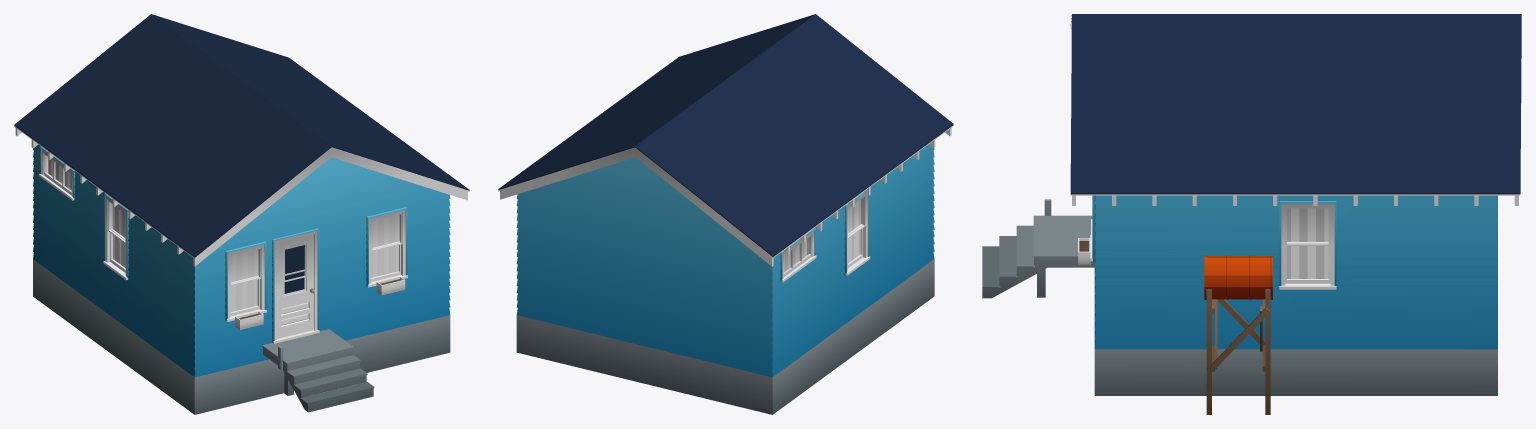
File: cottage.glb
3 renders of one model, left to right at view 1: azimuth 30°, elevation 25°; view 2: azimuth 150°, elevation 25°; view 3: azimuth 270°, elevation 25°, orthographic. The views are drawn at different scales.
Visible parts, largest first — view 1: Roof, cottage.boards, Foundation, porch, Roof Frame, Door, Window Frame Front Lt, Window Frame Front Rt, Curtains, Curtains.001, Door Frame, Window Frame Side (+5 smaller); view 2: cottage.boards, Roof, Foundation, Roof Frame, Window Frame Side, Window Frame - Bathroom, Curtains.002; view 3: Roof, cottage.boards, Foundation, porch, Cylinder, Cube, Curtains.004, Window Frame Side Road, Roof Frame.
Part boxes in pixels (<box>): Roof: <box>14,14,469,258</box>; cottage.boards: <box>33,144,450,377</box>; Foundation: <box>33,259,450,414</box>; porch: <box>262,329,374,412</box>; Roof Frame: <box>15,128,467,266</box>; Door: <box>277,234,314,338</box>; Window Frame Front Lt: <box>225,241,266,321</box>; Window Frame Front Rt: <box>366,207,407,287</box>; Curtains: <box>230,249,258,312</box>; Curtains.001: <box>371,215,399,277</box>; Door Frame: <box>272,228,319,343</box>; Window Frame Side: <box>103,193,128,280</box>; cottage.boards: <box>516,144,934,377</box>; Roof: <box>498,14,953,257</box>; Foundation: <box>516,259,934,414</box>; Roof Frame: <box>500,128,951,266</box>; Window Frame Side: <box>844,192,870,275</box>; Window Frame - Bathroom: <box>780,228,816,282</box>; Curtains.002: <box>848,200,860,263</box>; Roof: <box>1070,14,1521,195</box>; cottage.boards: <box>1094,195,1497,349</box>; Foundation: <box>1094,349,1497,395</box>; porch: <box>982,199,1094,298</box>; Cylinder: <box>1204,255,1272,299</box>; Cube: <box>1206,289,1270,414</box>; Curtains.004: <box>1287,208,1328,278</box>; Window Frame Side Road: <box>1279,201,1336,289</box>; Roof Frame: <box>1072,195,1518,205</box>.
Size of the model in its own units: 6.37 by 4.89 by 7.85.
Materials: 1 (1 with a texture image).
